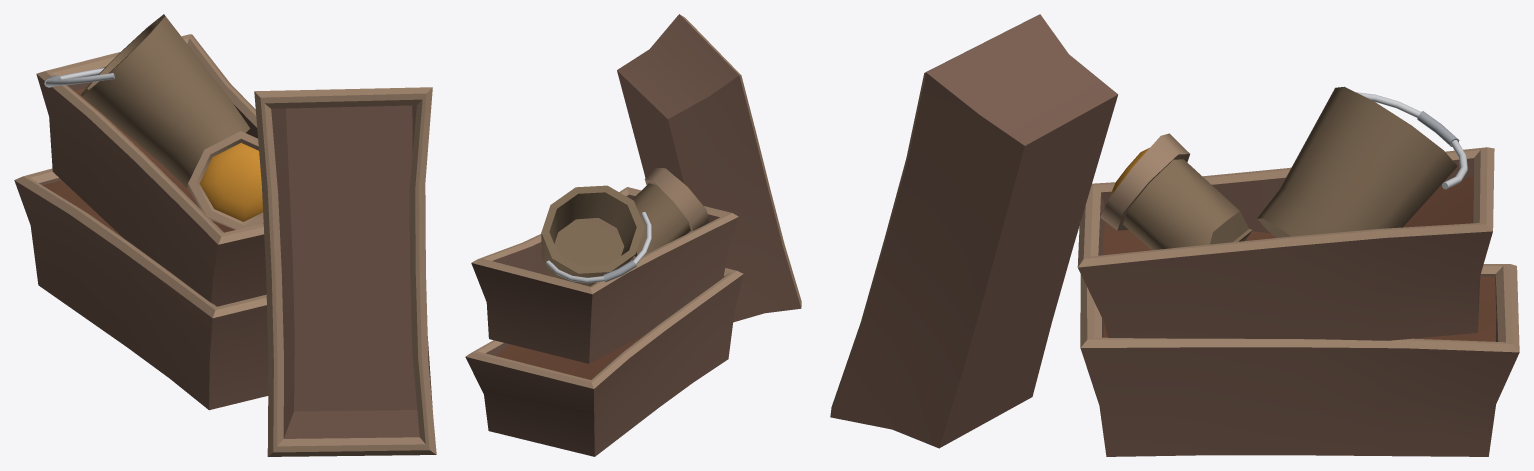
File: P_boxes_01_LD.fbx
The picture shows the model from 3 angles, left to right: view 1: azimuth 30°, elevation 25°; view 2: azimuth 150°, elevation 25°; view 3: azimuth 270°, elevation 25°; orthographic projection. The views are drawn at different scales.
Parts seen in each view (by area): view 1: P_boxes_01; view 2: P_boxes_01; view 3: P_boxes_01.
Part boxes in pixels (x1=…): P_boxes_01: x1=14, y1=14, x2=436, y2=456; P_boxes_01: x1=465, y1=14, x2=801, y2=456; P_boxes_01: x1=830, y1=14, x2=1519, y2=456.
Size of the model in its own units: 55.68 by 90.47 by 145.
